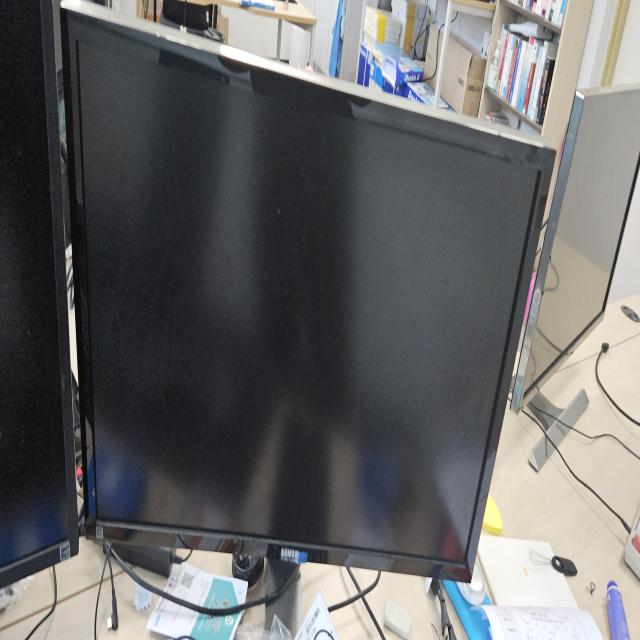Monitor: (58, 4, 556, 593)
